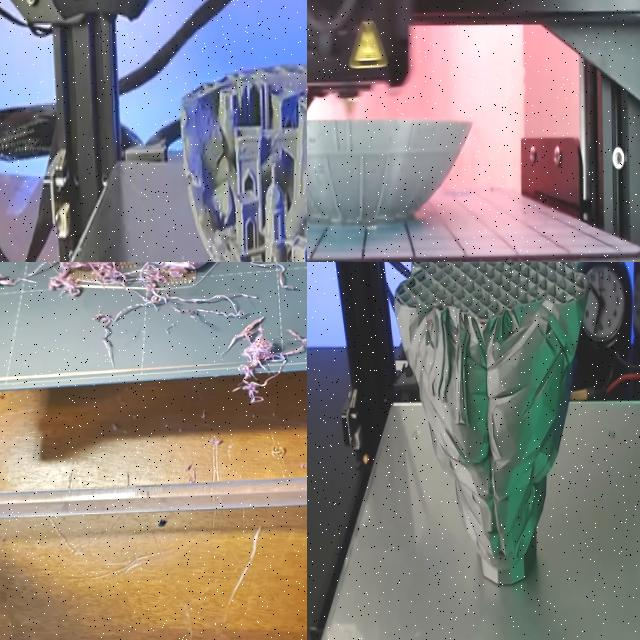spaghetti: (0, 262, 307, 324), (227, 314, 304, 426)
